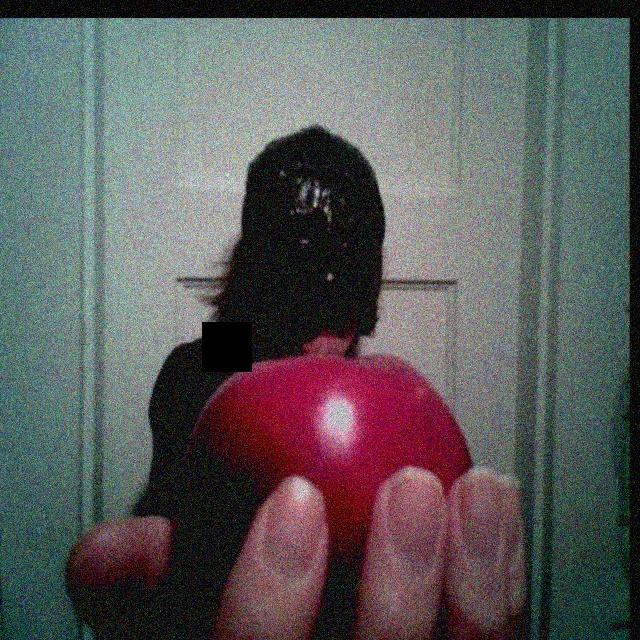red apple: (185, 351, 495, 564)
